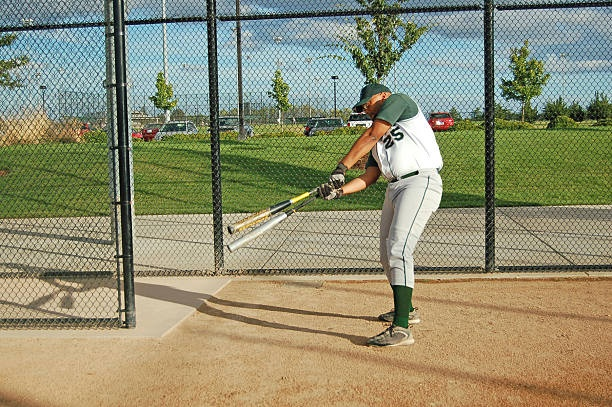bita: (225, 185, 332, 254), (227, 175, 344, 230)
